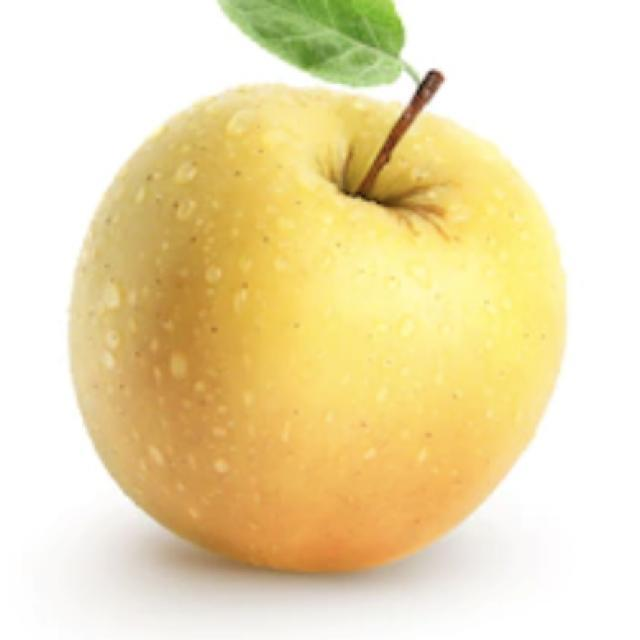Fresh Apple: (63, 87, 542, 563)
